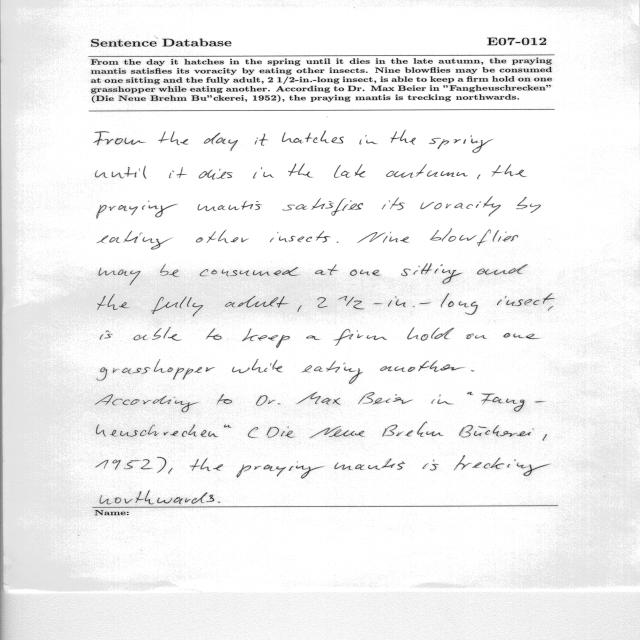word: (338, 293, 478, 315), (97, 359, 215, 381), (454, 455, 550, 476), (96, 395, 199, 413), (96, 425, 232, 438), (420, 197, 501, 217), (100, 490, 214, 504), (430, 229, 518, 246), (236, 462, 324, 479), (282, 198, 363, 216), (302, 361, 363, 384), (97, 201, 177, 218), (97, 231, 170, 249), (401, 263, 462, 284), (482, 393, 544, 412), (429, 135, 493, 153), (386, 164, 468, 178), (152, 297, 203, 316), (242, 328, 290, 348), (380, 361, 465, 372), (383, 422, 444, 437), (334, 329, 387, 346), (459, 425, 534, 437), (199, 267, 298, 276), (334, 458, 405, 470), (282, 131, 344, 144), (225, 296, 288, 308), (497, 293, 555, 306), (94, 132, 145, 146), (232, 359, 283, 373), (99, 268, 140, 285), (196, 230, 249, 243), (124, 457, 166, 473), (96, 166, 147, 179), (270, 231, 330, 242), (134, 327, 181, 341), (359, 392, 413, 404), (310, 426, 364, 438), (408, 327, 454, 341), (198, 201, 262, 211), (204, 133, 238, 151), (358, 232, 409, 243), (477, 264, 528, 275), (297, 392, 340, 405), (98, 294, 129, 310), (492, 164, 526, 177), (334, 164, 365, 178), (190, 458, 223, 471), (159, 131, 188, 145), (516, 197, 541, 213), (390, 130, 416, 145), (199, 169, 233, 180), (288, 164, 313, 178), (267, 426, 295, 438), (382, 197, 405, 210), (256, 395, 280, 406), (253, 167, 274, 179), (96, 460, 121, 470), (160, 264, 179, 277), (315, 265, 337, 276), (431, 395, 453, 405), (503, 333, 539, 339), (350, 269, 380, 276), (169, 167, 187, 178), (206, 328, 222, 340), (360, 135, 378, 145), (423, 460, 438, 471), (255, 134, 268, 146), (217, 394, 232, 404), (100, 331, 113, 340), (318, 297, 328, 308), (467, 334, 487, 339), (248, 427, 256, 438), (307, 335, 321, 340), (168, 468, 173, 474), (298, 305, 302, 312), (543, 434, 547, 441), (548, 306, 553, 311), (477, 175, 481, 180), (467, 392, 473, 395), (255, 427, 258, 430), (471, 370, 475, 372), (337, 242, 339, 243), (218, 502, 220, 503)
